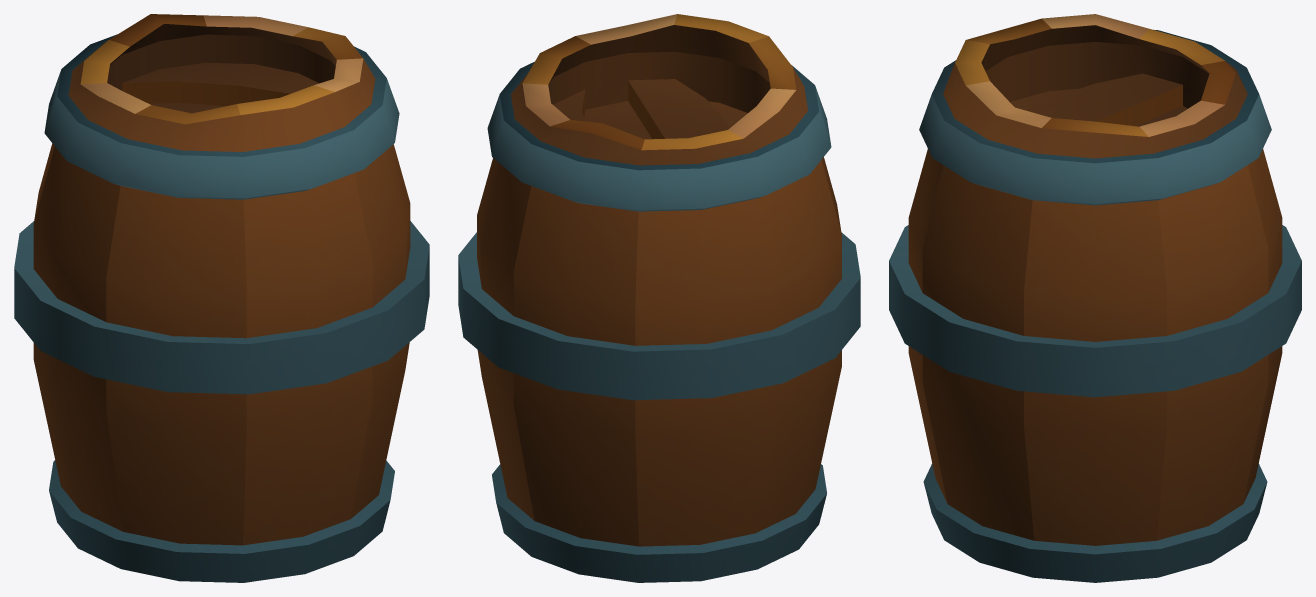
File: barrell.glb
3 views of the same model, side by side, from view 1: azimuth 30°, elevation 25°; view 2: azimuth 150°, elevation 25°; view 3: azimuth 270°, elevation 25° (orthographic). The views are drawn at different scales.
Parts seen in each view (by area): view 1: wood_barell_1; view 2: wood_barell_1; view 3: wood_barell_1.
Part boxes in pixels (x1,y1,x2,y2): wood_barell_1: [14, 14, 429, 582]; wood_barell_1: [458, 14, 860, 582]; wood_barell_1: [889, 14, 1301, 582].
Bounding box in the file's own units: 1.34 × 1.62 × 1.34.
Materials: 1 (1 with a texture image).
